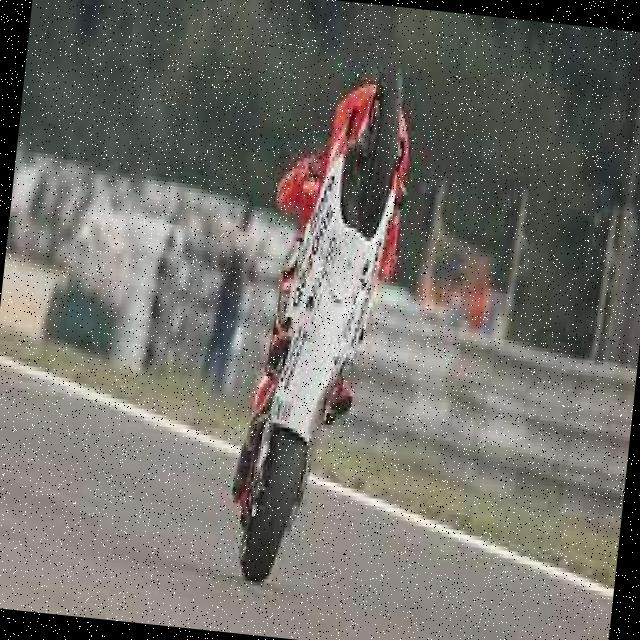Wheeling: (207, 42, 432, 608)
